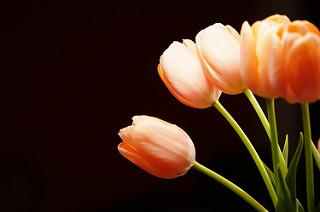tulip: (119, 117, 196, 177), (241, 14, 294, 97), (270, 19, 320, 100), (158, 41, 218, 107), (197, 24, 248, 93)
